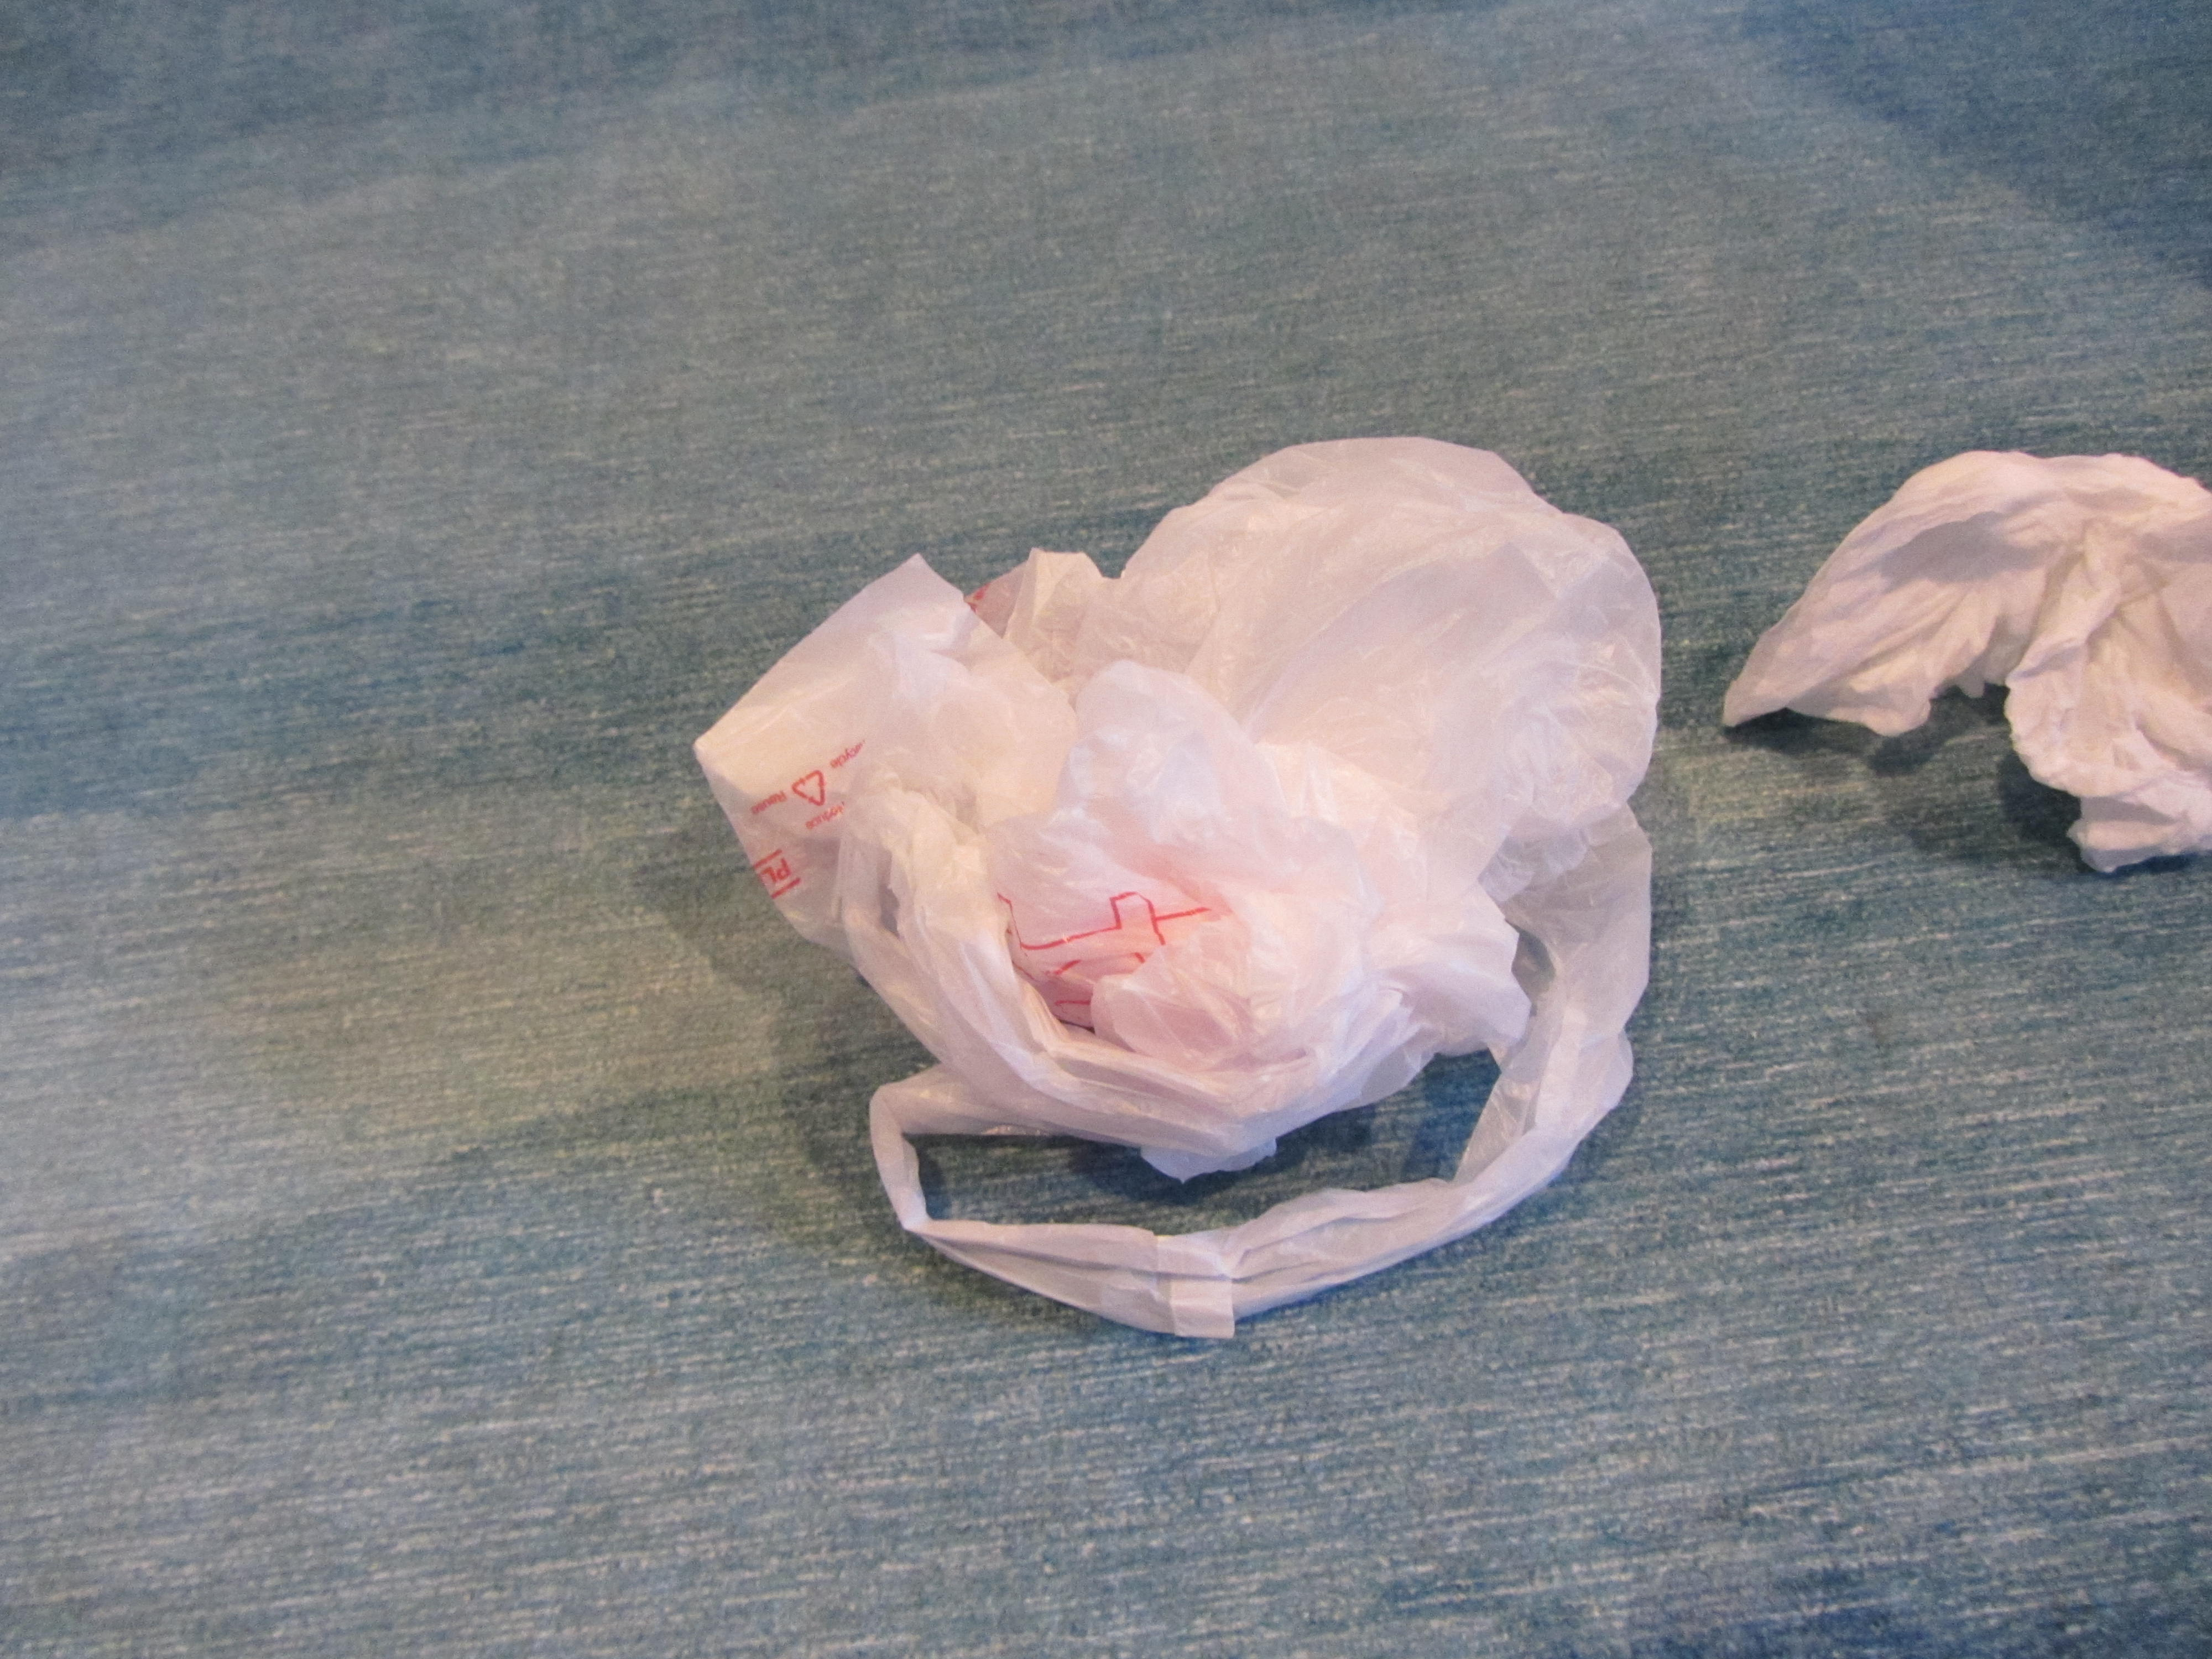plastic_bag: (683, 437, 1670, 1354)
